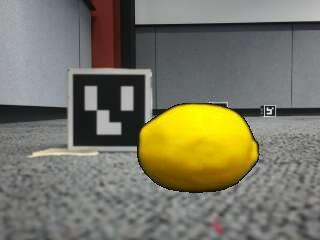lemon: (137, 105, 257, 192)
